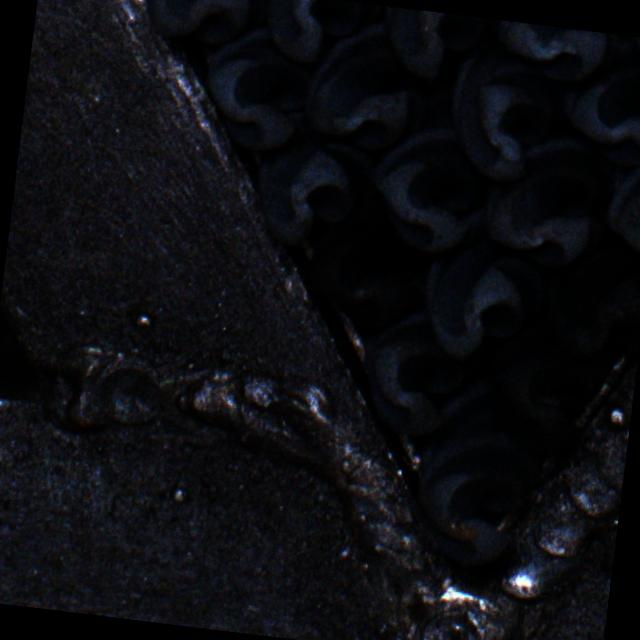tool_b: (409, 395, 547, 572), (296, 12, 457, 158), (478, 122, 616, 274), (443, 30, 564, 184), (365, 114, 494, 258), (414, 230, 550, 366), (354, 304, 486, 442), (484, 304, 615, 441), (247, 130, 382, 256), (299, 208, 428, 338), (198, 19, 320, 154), (536, 234, 640, 364), (556, 28, 640, 169), (375, 5, 499, 88), (260, 0, 382, 71), (141, 0, 272, 52), (600, 136, 640, 274)
